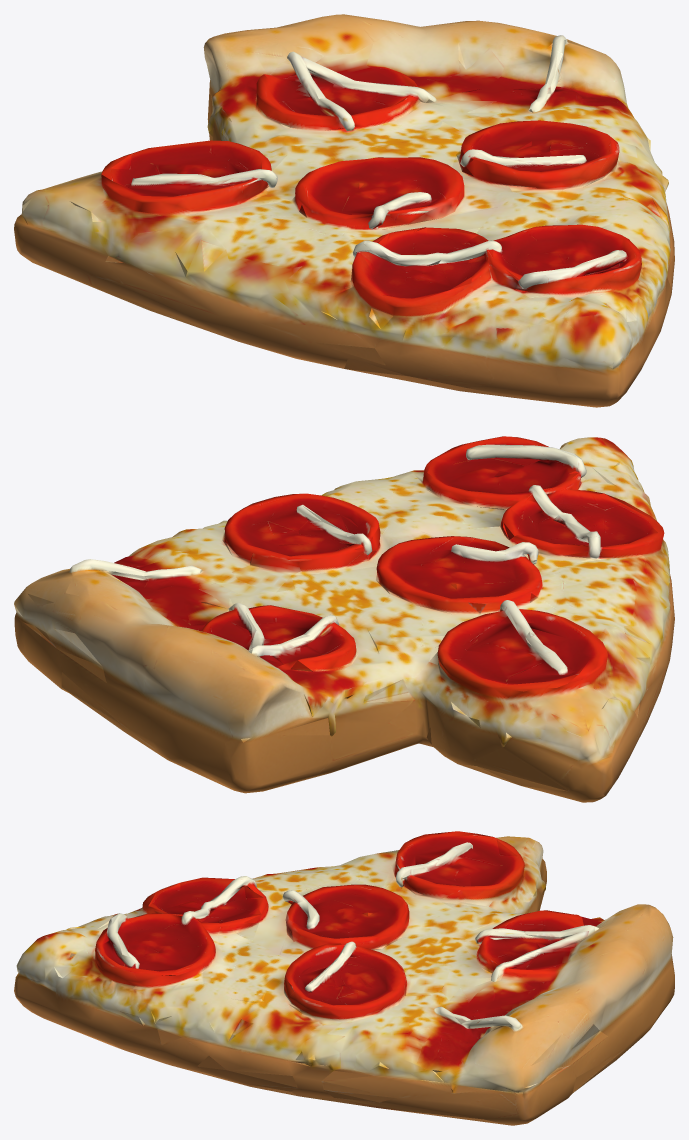
File: addy_lunch_pizza.obj
The picture shows the model from 3 angles, top to bottom: view 1: azimuth 30°, elevation 25°; view 2: azimuth 150°, elevation 25°; view 3: azimuth 270°, elevation 25°; orthographic projection. The views are drawn at different scales.
Parts seen in each view (by area): view 1: model; view 2: model; view 3: model.
Boxes of the visible parts, x1,y1,x2,y2 form: model: (14,14,674,407); model: (14,436,674,802); model: (14,831,674,1125).
Bounding box in the file's own units: 1.68 × 0.3143 × 1.9.
